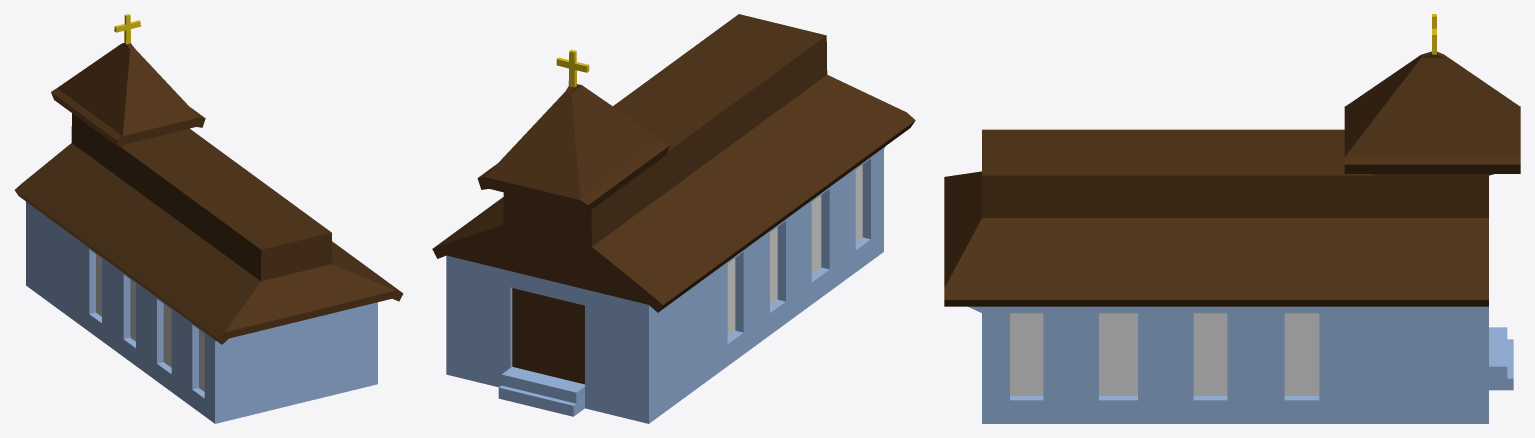
Rendered from church.fbx.
The picture shows the model from 3 angles, left to right: view 1: azimuth 30°, elevation 25°; view 2: azimuth 150°, elevation 25°; view 3: azimuth 270°, elevation 25°; orthographic projection. The views are drawn at different scales.
Visible parts, largest first — view 1: Cube; view 2: Cube; view 3: Cube.
Part boxes in pixels (box(x1,y1,x2,y2)): Cube: box(14, 14, 403, 423); Cube: box(432, 14, 915, 423); Cube: box(944, 14, 1520, 423).
Bounding box in the file's own units: 287 × 391 × 575.
